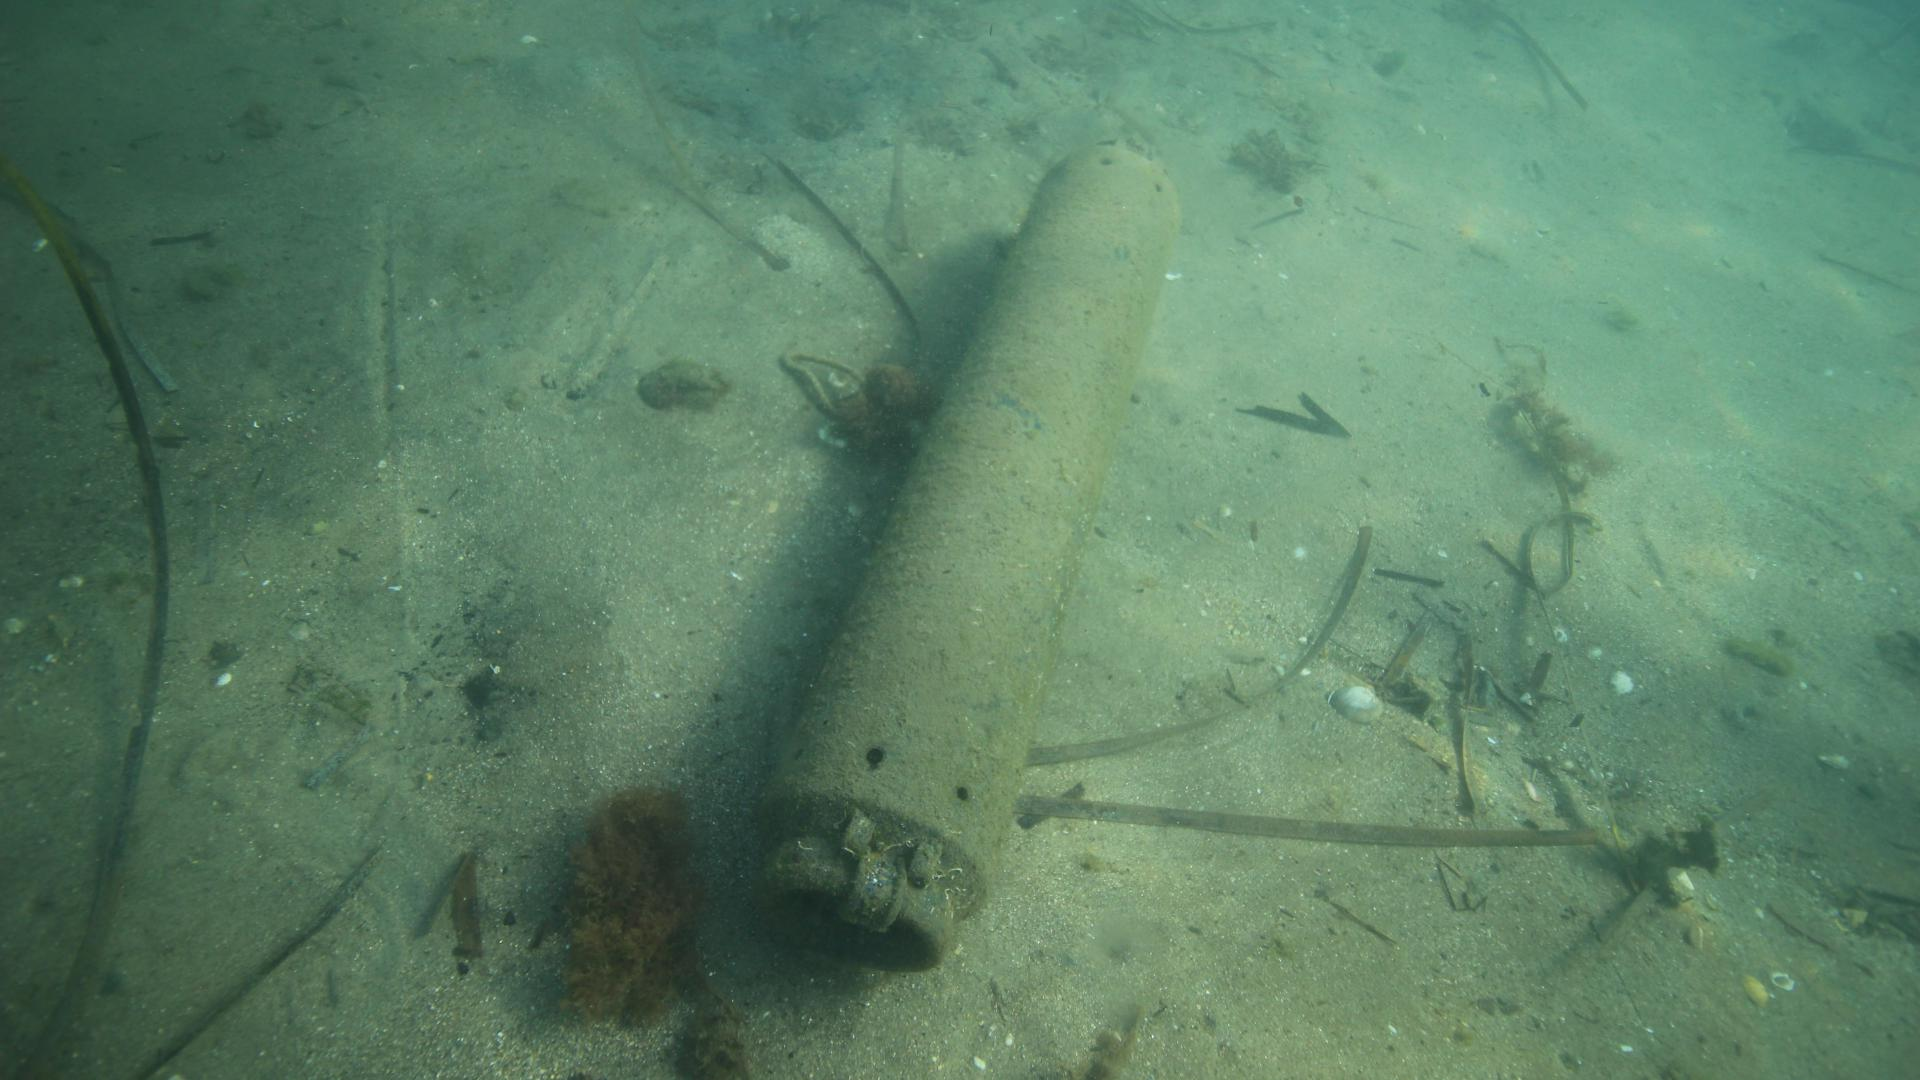eel fish trap: (749, 132, 1187, 971)
